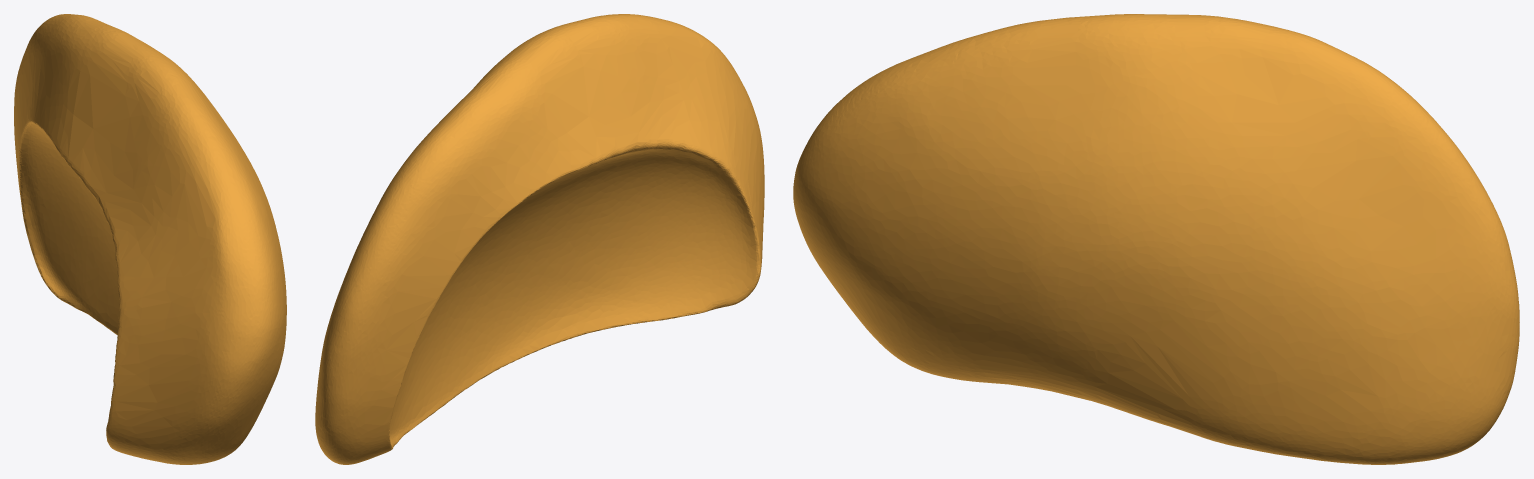
File: Left_putamen.obj
The picture shows the model from 3 angles, left to right: view 1: azimuth 30°, elevation 25°; view 2: azimuth 150°, elevation 25°; view 3: azimuth 270°, elevation 25°; orthographic projection. The views are drawn at different scales.
Visible parts, largest first — view 1: obj0; view 2: obj0; view 3: obj0.
Part boxes in pixels (<box>): obj0: <box>14,14,286,464</box>; obj0: <box>315,14,764,464</box>; obj0: <box>793,14,1519,464</box>.
Bounding box in the file's own units: 8.71 × 12.45 × 20.42.
1 material, 1 textured.
